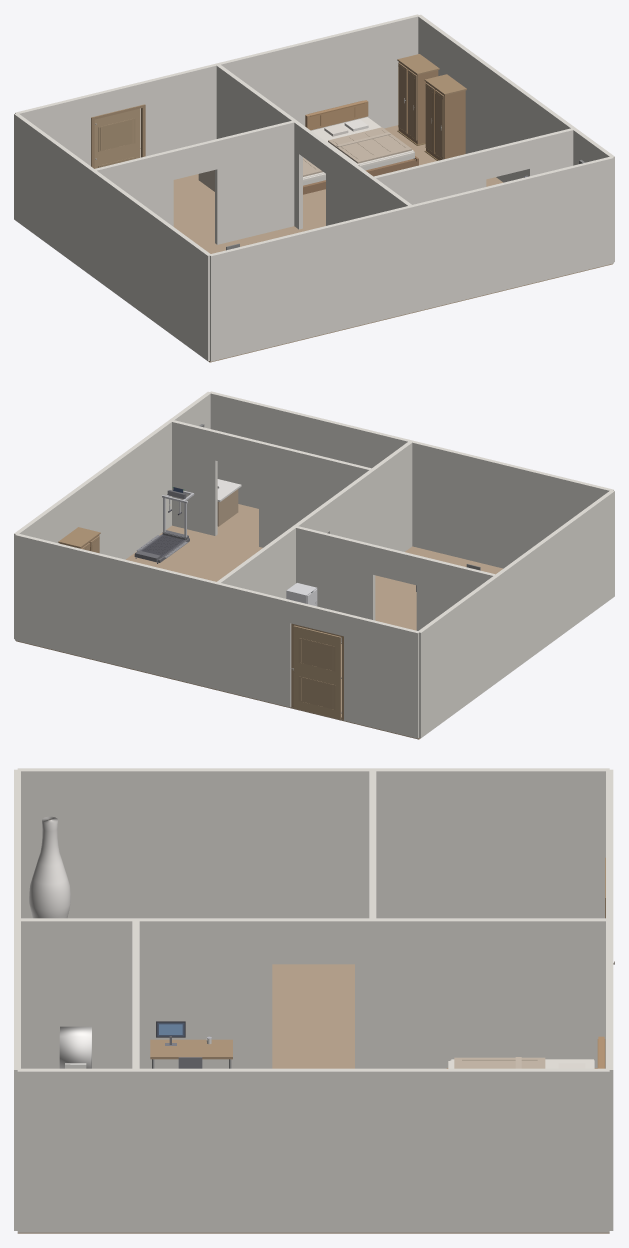
The model's file is room_preview.glb.
3 views of the same model, one above another, from view 1: azimuth 30°, elevation 25°; view 2: azimuth 150°, elevation 25°; view 3: azimuth 270°, elevation 25° (orthographic). The views are drawn at different scales.
Visible parts, largest first — view 1: W_Back, W_Front, W_Left, W_Horiz, W_Right, W_Mid, W_BathH, Floor, Detailed_Bed.001, Detailed_Wardrobe, Detailed_Door.003, Detailed_Wardrobe.001 (+1 smaller); view 2: W_Front, W_Back, W_Left, W_BathH, W_Right, W_Horiz, W_Mid, Floor, Detailed_Door.003, Treadmill_Pro, Detailed_Sink, Detailed_Wardrobe (+1 smaller); view 3: W_Right, W_Left, W_Mid, Floor, W_Front, Floor_Vase, W_Back, Desk_Setup.001, Detailed_Bed, Modern_Toilet, W_Horiz, W_BathH.
Boxes of the visible parts, x1=… form: W_Back: x1=209, y1=156, x2=613, y2=361; W_Front: x1=15, y1=14, x2=419, y2=165; W_Left: x1=14, y1=113, x2=210, y2=361; W_Horiz: x1=95, y1=120, x2=295, y2=244; W_Right: x1=418, y1=14, x2=614, y2=262; W_Mid: x1=216, y1=64, x2=411, y2=229; W_BathH: x1=372, y1=128, x2=574, y2=204; Floor: x1=173, y1=125, x2=612, y2=362; Detailed_Bed.001: x1=305, y1=100, x2=418, y2=176; Detailed_Wardrobe: x1=424, y1=74, x2=466, y2=160; Detailed_Door.003: x1=91, y1=104, x2=145, y2=168; Detailed_Wardrobe.001: x1=397, y1=54, x2=439, y2=145; W_Front: x1=15, y1=533, x2=419, y2=738; W_Back: x1=209, y1=391, x2=613, y2=568; W_Left: x1=417, y1=490, x2=614, y2=738; W_BathH: x1=171, y1=419, x2=371, y2=547; W_Right: x1=14, y1=391, x2=211, y2=639; W_Horiz: x1=294, y1=525, x2=495, y2=641; W_Mid: x1=217, y1=441, x2=412, y2=598; Floor: x1=16, y1=504, x2=502, y2=739; Detailed_Door.003: x1=291, y1=623, x2=343, y2=719; Treadmill_Pro: x1=134, y1=487, x2=194, y2=563; Detailed_Sink: x1=217, y1=479, x2=241, y2=526; Detailed_Wardrobe: x1=58, y1=527, x2=100, y2=553; W_Right: x1=17, y1=1068, x2=609, y2=1232; W_Left: x1=17, y1=768, x2=609, y2=918; W_Mid: x1=17, y1=918, x2=609, y2=1068; Floor: x1=17, y1=964, x2=609, y2=1233; W_Front: x1=606, y1=769, x2=613, y2=1230; Floor_Vase: x1=29, y1=816, x2=70, y2=918; W_Back: x1=14, y1=769, x2=20, y2=1230; Desk_Setup.001: x1=150, y1=1021, x2=232, y2=1068; Detailed_Bed: x1=446, y1=1036, x2=605, y2=1068; Modern_Toilet: x1=59, y1=1026, x2=91, y2=1068; W_Horiz: x1=369, y1=769, x2=376, y2=918; W_BathH: x1=132, y1=921, x2=139, y2=1068.
Size of what is drawn, in the model's own units: 12.12 by 3.05 by 10.15.
